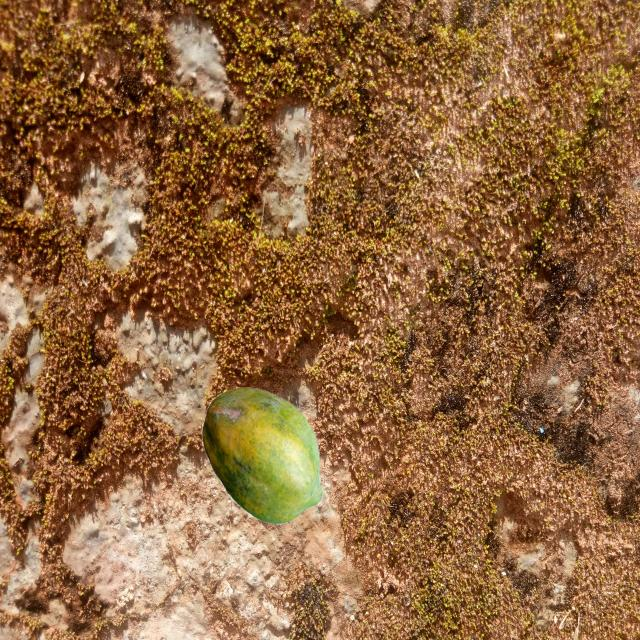Pepaya rippen: (202, 380, 338, 535)
